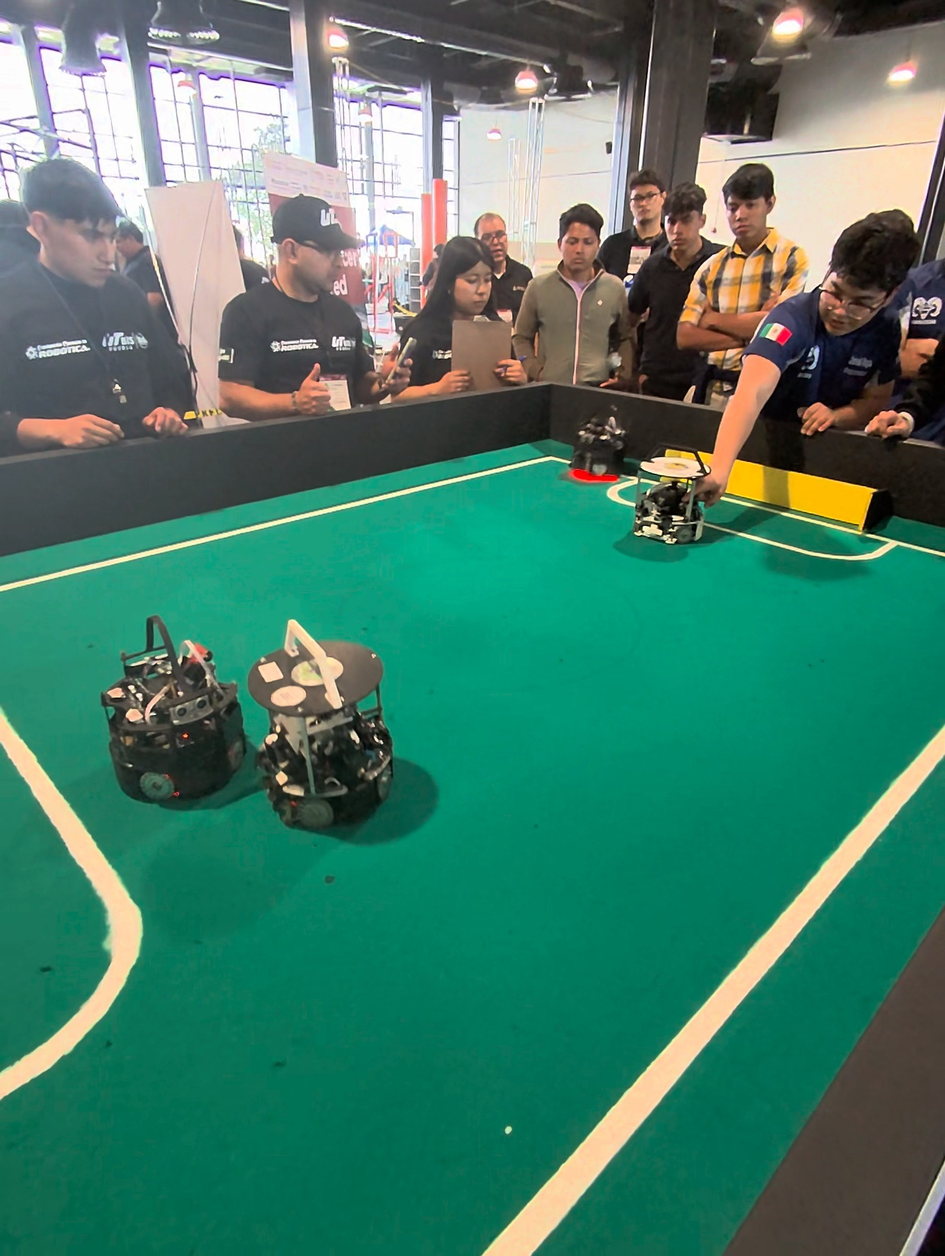Robot: (245, 605, 398, 839), (104, 615, 244, 817), (629, 438, 708, 556), (566, 401, 631, 487)
